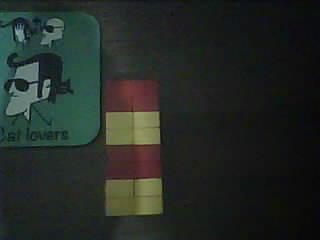lego: (102, 80, 163, 215)
